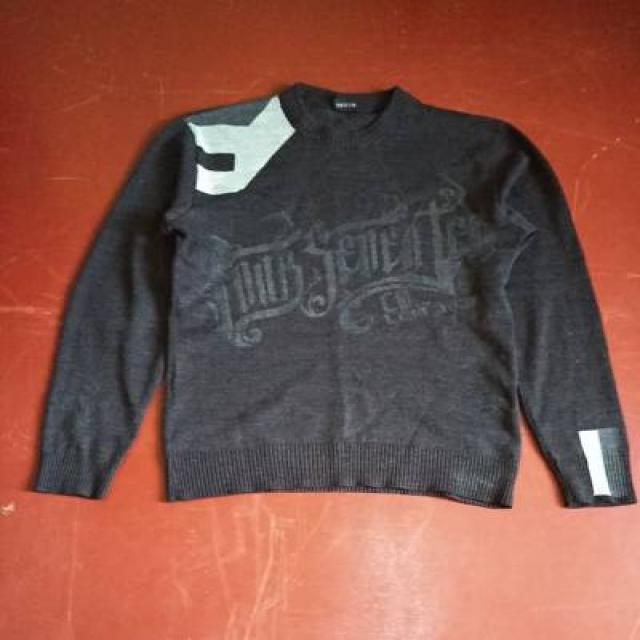Clothes -Biodegradable-: (36, 84, 634, 518)
